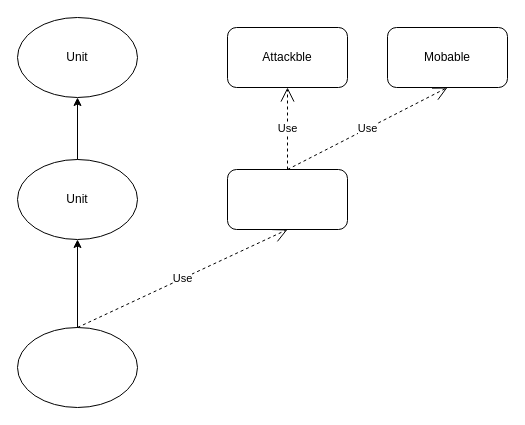
This 525x425 diagram has some shape labels left out. Here are the shapes that lost their labels. From the top down, the centre of each, then its label:
(x=287, y=199): Fightable
(x=77, y=367): Fighter
